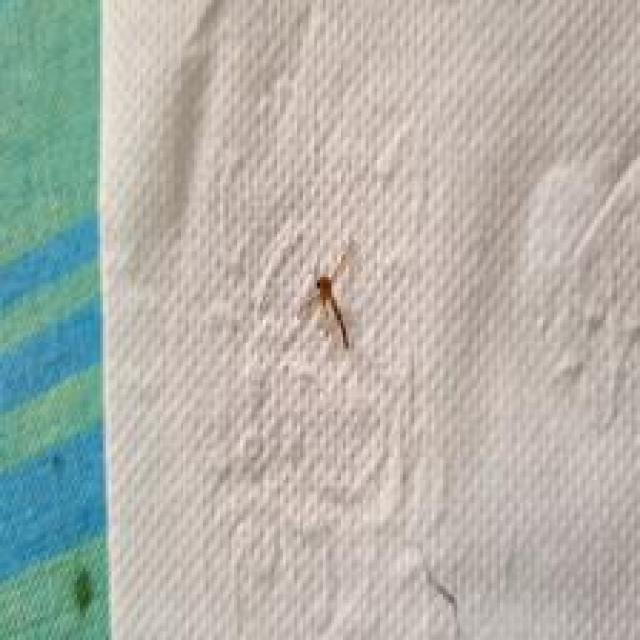Culex: (296, 243, 356, 351)
